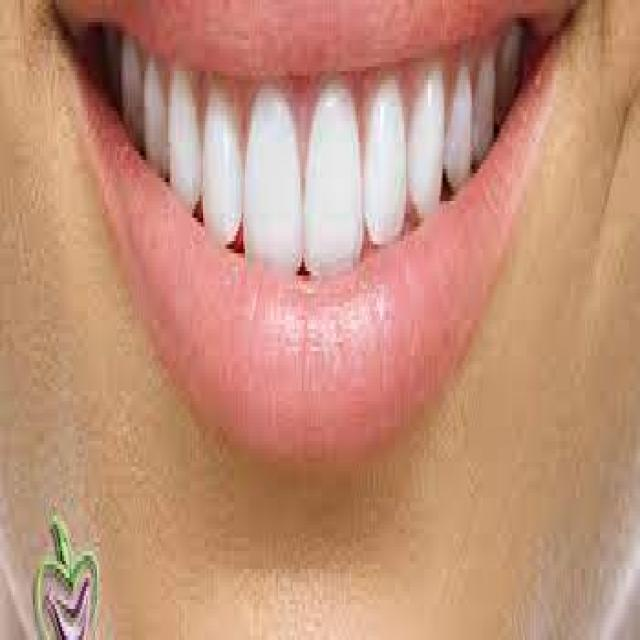tooth: (245, 89, 298, 262), (307, 93, 355, 258), (203, 98, 240, 244), (368, 94, 402, 235), (409, 80, 439, 209), (172, 71, 199, 196), (143, 66, 168, 165), (452, 76, 472, 178), (122, 35, 141, 129), (477, 62, 492, 151), (496, 40, 516, 93)
